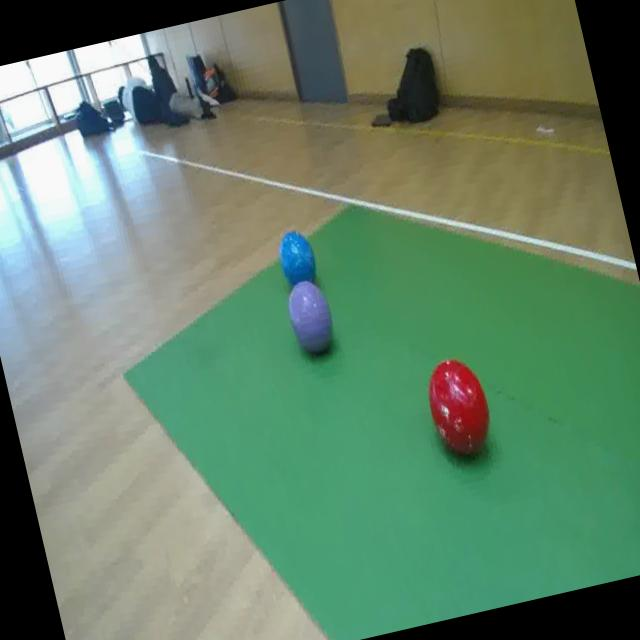blue_ball: (276, 228, 318, 284)
purple_ball: (284, 276, 339, 358)
red_ball: (421, 352, 498, 463)
